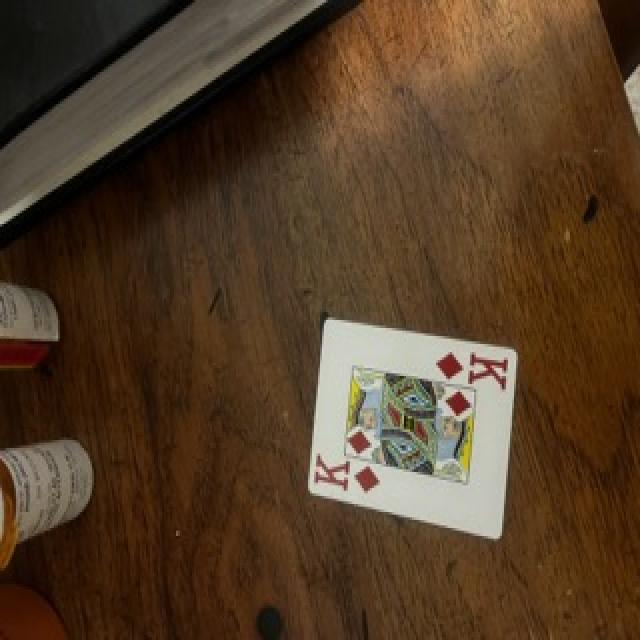King of diamonds: (312, 318, 518, 538)
